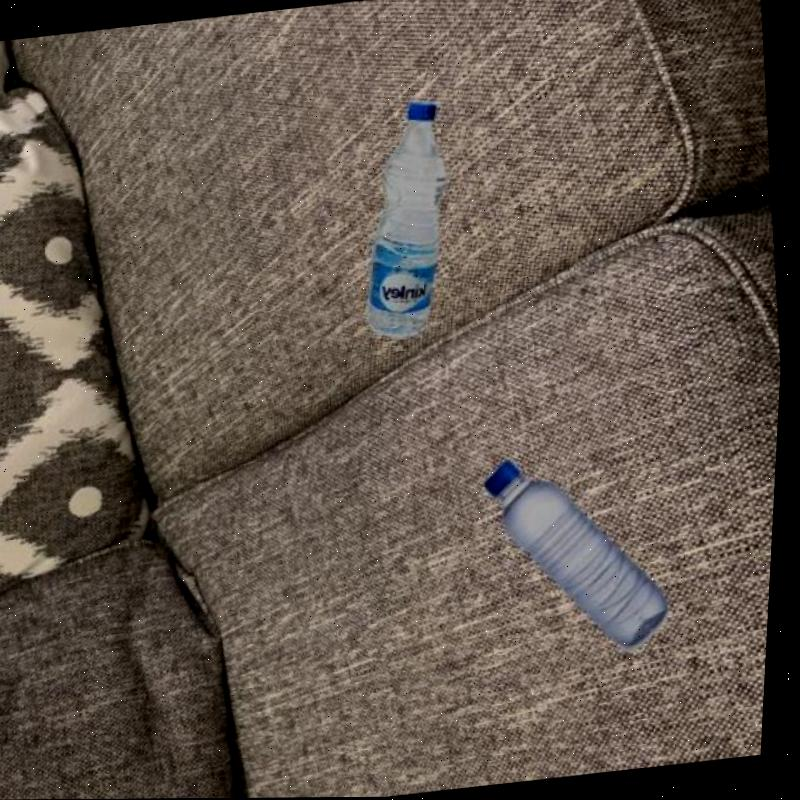botella: (475, 440, 690, 663), (347, 94, 468, 345)
